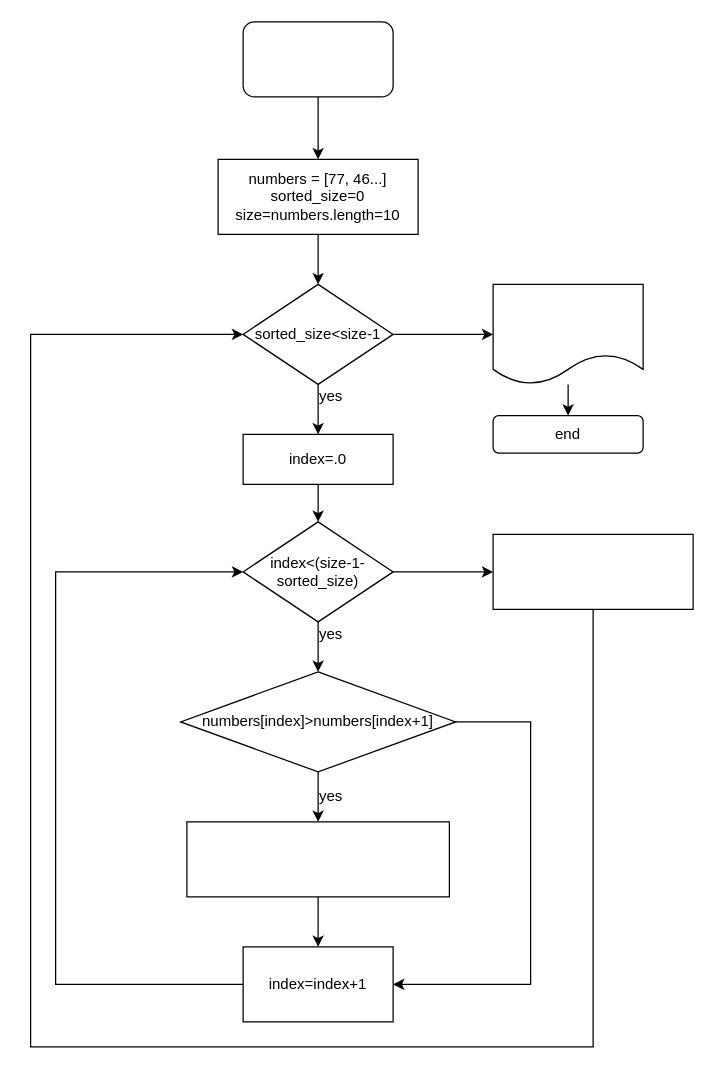
Image size: 715x1079. Some labels were removed from this diagram. The shapes that lost their labels are listed below. From the top down, each one's centre as x and y in pixels, then its label:
At (317,59): "start".
At (567,333): "print numbers".
At (592,571): "sorter_size=sorted_size+1".
At (317,859): "temp=numbers[index] numbers[index]=numbers[index+1] numbers[index+1]=temp".
